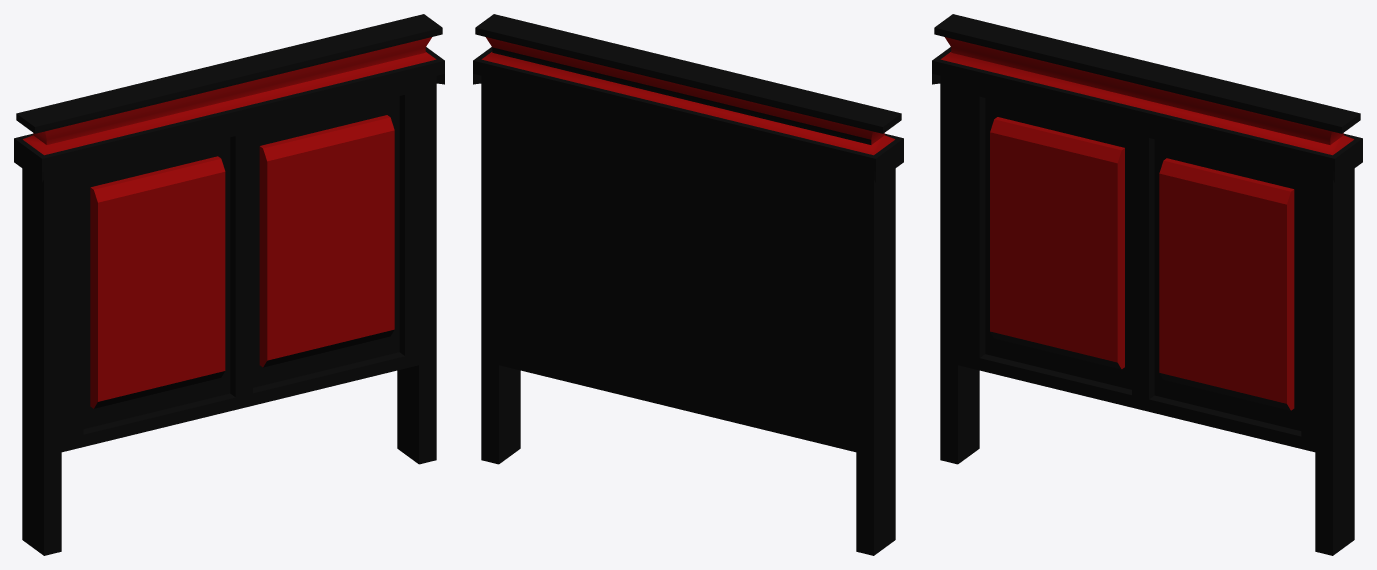
Rendered from BedPart2.FBX.
3 renders of one model, left to right at view 1: azimuth 30°, elevation 25°; view 2: azimuth 150°, elevation 25°; view 3: azimuth 330°, elevation 25°, orthographic.
Visible parts, largest first — view 1: Box001; view 2: Box001; view 3: Box001.
Part boxes in pixels (left/top/right/bottom): Box001: left=14, top=14, right=444, bottom=555; Box001: left=473, top=14, right=903, bottom=555; Box001: left=932, top=14, right=1362, bottom=555.
Bounding box in the file's own units: 42.97 × 43.26 × 5.14.
